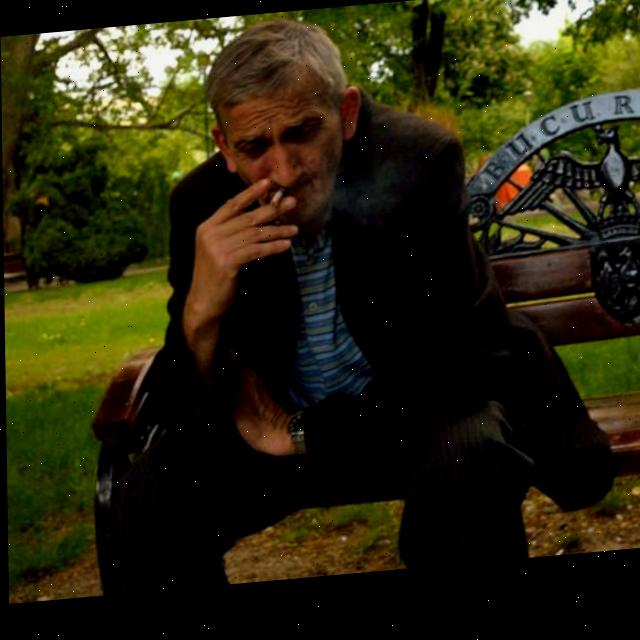cigarette: (270, 192, 285, 211)
